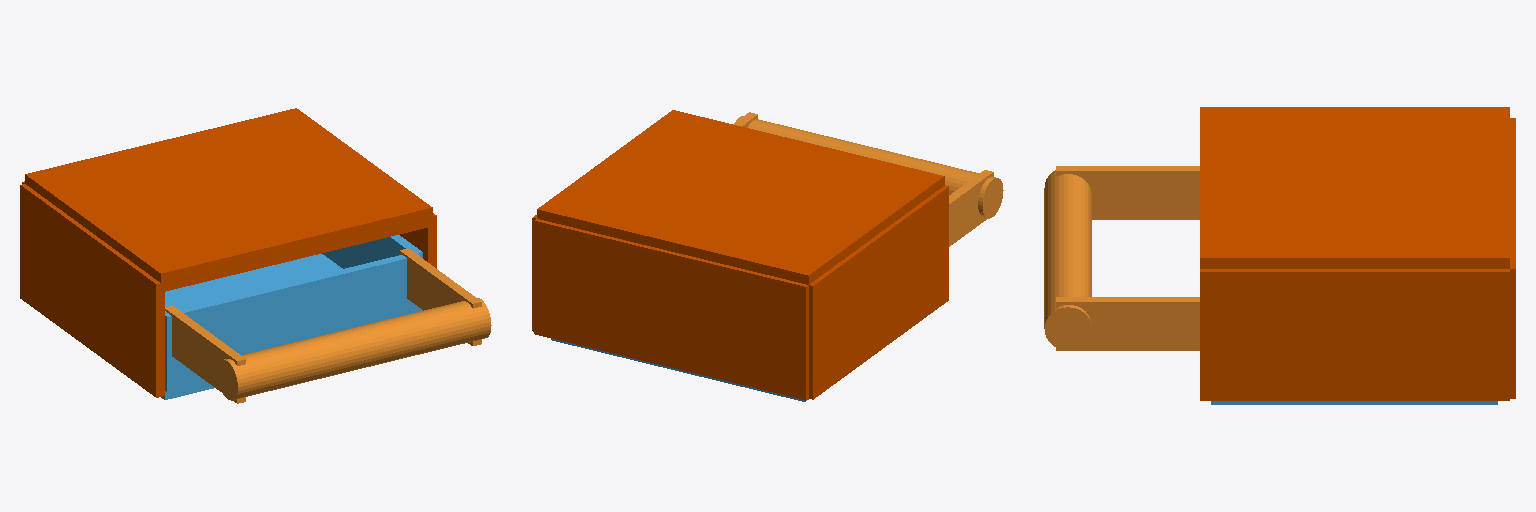
robot.urdf — bowl.urdf:
<?xml version="0.0" ?>
<robot name="bowl.urdf">

  <material name="yellow">
    <color rgba="1 1 0.4 1"/>
  </material>
  <material name="red">
    <color rgba="1 0 0 1"/>
  </material>
  <material name="blue">
    <color rgba=".17 .20 .38 1"/>
  </material>
  <material name="teal">
    <color rgba="0 .5 .5 1"/>
  </material>
  <material name="orange">
    <color rgba=".93 .6 .23 1"/>
  </material>

  <link name="world"/>

  <link name="base">
    <contact>
      <rolling_friction value="10.0"/>
      <lateral_friction value="10.0"/>
      <spinning_friction value="10.0"/>
    </contact>
    <inertial>
      <origin rpy="0 0 0" xyz="0.0 0.0 0.0"/>
       <mass value="0.1"/>
       <inertia ixx="1" ixy="0" ixz="0" iyy="1" iyz="0" izz="1"/>
    </inertial>
    <visual>
      <origin rpy="0 0 0" xyz="0 0 -0.2"/>
      <geometry>
        <box size="1.4 1.2 .1"/>
      </geometry>
    </visual>
    <visual>
      <!-- right -->
      <origin rpy="0 0 0" xyz="0 -.6 0"/>
      <geometry>
        <box size="1.4 .05 0.4"/>
      </geometry>
    </visual>
    <visual>
      <!-- left -->
      <origin rpy="0 0 0" xyz="0 .6 0"/>
      <geometry>
        <box size="1.4 .05 0.4"/>
      </geometry>
    </visual>
    <visual>
      <!-- front -->
      <origin rpy="0 0 0" xyz=".7 0 0"/>
      <geometry>
        <box size=".05 1.2 0.4"/>
      </geometry>
    </visual>
    <visual>
      <!-- back -->
      <origin rpy="0 0 0" xyz="-.7 0 0"/>
      <geometry>
        <box size=".05 1.2 0.4"/>
      </geometry>
    </visual>

    <collision>
      <!--Bottom --> 
      <origin rpy="0 0 0" xyz="0 0 -.2"/>
      <geometry>
        <box size="1.4 1.2 .1"/>
      </geometry>
    </collision>
    <collision>
      <!-- right -->
      <origin rpy="0 0 0" xyz="0 -.6 0"/>
      <geometry>
        <box size="1.4 .05 0.4"/>
      </geometry>
    </collision>
    <collision>
      <!-- left -->
      <origin rpy="0 0 0" xyz="0 .6 0"/>
      <geometry>
        <box size="1.4 .05 0.4"/>
      </geometry>
    </collision>
    <collision>
      <!-- front -->
      <origin rpy="0 0 0" xyz=".7 0 0"/>
      <geometry>
        <box size=".05 1.2 0.4"/>
      </geometry>
    </collision>
    <collision>
      <!-- back -->
      <origin rpy="0 0 0" xyz="-.7 0 0"/>
      <geometry>
        <box size=".05 1.2 0.4"/>
      </geometry>
    </collision>
  </link>

  <link name="handle_r">
    <contact>
      <rolling_friction value="1000.0"/>
      <lateral_friction value="1000.0"/>
      <!-- lateral_friction was key to not making the gripper slide on the handle--> 
      <spinning_friction value="1000.0"/>
      <contact_cfm value="0.0"/>
      <contact_erp value="1.0"/>
    </contact>
    <inertial>
      <origin rpy="0 1.57 0" xyz="0 0 0"/>
      <mass value=".1"/>
      <inertia ixx="1" ixy="0" ixz="0" iyy="1" iyz="0" izz="1"/>
    </inertial>
    <visual>
      <origin rpy="0 1.57 0" xyz="0 0 0"/>
      <geometry>
        <cylinder radius="0.1" length="1.4"/>
      </geometry>
      <material name="orange"/>
    </visual>
    <collision>
      <origin rpy="0 1.57 0" xyz="0 0 0"/>
      <geometry>
        <cylinder radius="0.1" length="1.4"/>
      </geometry>
    </collision>
  </link>

  <link name="handle_plate_far">
    <contact>
      <rolling_friction value="1000.0"/>
      <lateral_friction value="1000.0"/>
      <spinning_friction value="1000.0"/>
      <contact_cfm value="0.0"/>
      <contact_erp value="1.0"/>
    </contact>
    <inertial>
      <origin rpy="0 1.57 0" xyz="0 0 0"/>
      <mass value=".1"/>
      <inertia ixx="1" ixy="0" ixz="0" iyy="1" iyz="0" izz="1"/>
    </inertial>
    <visual>
      <origin rpy="0 0 0" xyz="0 0 0"/>
      <geometry>
        <box size=".05 .7 .225"/>
      </geometry>
      <material name="orange"/>
    </visual>
    <collision>
      <origin rpy="0 0 0" xyz="0 0 0"/>
      <geometry>
        <box size=".05 .7 .225"/>
      </geometry>
    </collision>
  </link>

  <link name="handle_plate_near">
    <contact>
      <rolling_friction value="1000.0"/>
      <lateral_friction value="1000.0"/>
      <spinning_friction value="1000.0"/>
      <contact_cfm value="0.0"/>
      <contact_erp value="1.0"/>
    </contact>
    <inertial>
      <origin rpy="0 1.57 0" xyz="0 0 0"/>
      <mass value=".1"/>
      <inertia ixx="1" ixy="0" ixz="0" iyy="1" iyz="0" izz="1"/>
    </inertial>
    <visual>
      <origin rpy="0 0 0" xyz="0 0 0"/>
      <geometry>
        <box size=".05 .7 .225"/>
      </geometry>
      <material name="orange"/>
    </visual>
    <collision>
      <origin rpy="0 0 0" xyz="0 0 0"/>
      <geometry>
        <box size=".05 .7 .225"/>
      </geometry>
    </collision>
  </link>

  <link name="frame">
    <contact>
      <lateral_friction value="0.5"/>
      <rolling_friction value="0.0"/>
      <contact_cfm value="0.0"/>
      <contact_erp value="1.0"/>
    </contact>
    <inertial>
      <origin rpy="0 0 0" xyz="0.0 0.0 0.0"/>
       <mass value=".1"/>
       <inertia ixx="1" ixy="0" ixz="0" iyy="1" iyz="0" izz="1"/>
    </inertial>
    <visual>
      <!--Top-->
      <origin rpy="0 0 0" xyz="0 0 .3"/>
      <geometry>
        <box size="1.5 1.3 .1"/>
      </geometry>
    </visual>
    <visual>
      <!--Right-->
      <origin rpy="0 0 0" xyz="0 .65 0"/>
      <geometry>
        <box size="1.5 .05 .6"/>
      </geometry>
    </visual>
    <visual>
      <!--Front-->
      <origin rpy="0 0 0" xyz=".75 0 0"/>
      <geometry>
        <box size=".05 1.3 .6"/>
      </geometry>
    </visual>
    <visual>
      <!--Back-->
      <origin rpy="0 0 0" xyz="-.75 0 0"/>
      <geometry>
        <box size=".05 1.3 .6"/>
      </geometry>
    </visual>

    <collision>
      <!--Top-->
      <origin rpy="0 0 0" xyz="0 0 .3"/>
      <geometry>
        <box size="1.5 1.3 .1"/>
      </geometry>
    </collision>
    <collision>
      <!--Right-->
      <origin rpy="0 0 0" xyz="0 .65 0"/>
      <geometry>
        <box size="1.5 .05 .6"/>
      </geometry>
    </collision>
    <collision>
      <!--Front-->
      <origin rpy="0 0 0" xyz=".75 0 0"/>
      <geometry>
        <box size=".05 1.3 .6"/>
      </geometry>
    </collision>
    <collision>
      <!--Back-->
      <origin rpy="0 0 0" xyz="-.75 0 0"/>
      <geometry>
        <box size=".05 1.3 .6"/>
      </geometry>
    </collision>
  </link>

  <joint name="frame_joint" type="fixed">
    <parent link="world"/>
    <child link="frame"/>
  </joint>

  <joint name="base_frame_joint" type="prismatic">
    <origin rpy="0 0 0" xyz="0 0 -.1"/>
    <parent link="frame"/>
    <child link="base"/>
    <axis rpy="0 0 0" xyz="0 1 0"/>
    <limit effort="100" lower="-1.25" upper="0" velocity="100"/>
    <dynamics damping="0.0" friction=".01"/>
  </joint>

  <joint name="handle_plate_far_joint" type="fixed">
    <origin rpy="0 0 0" xyz="-0.65 -0.9 0.1"/>
    <parent link="base"/>
    <child link="handle_plate_far"/>
  </joint>

  <joint name="handle_plate_near_joint" type="fixed">
    <origin rpy="0 0 0" xyz="0.65 -0.9 0.1"/>
    <parent link="base"/>
    <child link="handle_plate_near"/>
  </joint>

  <joint name="handle_r_joint" type="fixed">
    <origin rpy="0 0 0" xyz="0 -1.2 0.1"/>
    <parent link="base"/>
    <child link="handle_r"/>
  </joint>

</robot>

--- Render facts (derived) ---
3 views of the same robot in one strip: view 1: azimuth 30°, elevation 25°; view 2: azimuth 150°, elevation 25°; view 3: azimuth 270°, elevation 25° (orthographic).
Model bowl.urdf with 6 links and 5 joints (1 prismatic, 4 fixed), rooted at world, posed all joints at 0.
Links seen in each view (by area): view 1: frame, base, handle_r, handle_plate_far, handle_plate_near; view 2: frame, handle_r, handle_plate_far; view 3: frame, handle_r, handle_plate_near, handle_plate_far, base.
Link boxes in pixels (<box>): frame: <box>20,108,436,397</box>; base: <box>161,235,422,399</box>; handle_r: <box>217,298,491,400</box>; handle_plate_far: <box>165,306,245,403</box>; handle_plate_near: <box>400,248,481,345</box>; frame: <box>532,110,948,400</box>; handle_r: <box>736,116,1003,218</box>; handle_plate_far: <box>949,170,993,246</box>; frame: <box>1200,107,1515,400</box>; handle_r: <box>1044,170,1091,350</box>; handle_plate_near: <box>1056,297,1199,350</box>; handle_plate_far: <box>1056,166,1199,219</box>; base: <box>1211,401,1497,404</box>.
Size in the robot's own frame: 1.55 by 1.98 by 0.7 metres.
Geometry: primitives only (box / cylinder / sphere), no mesh files.